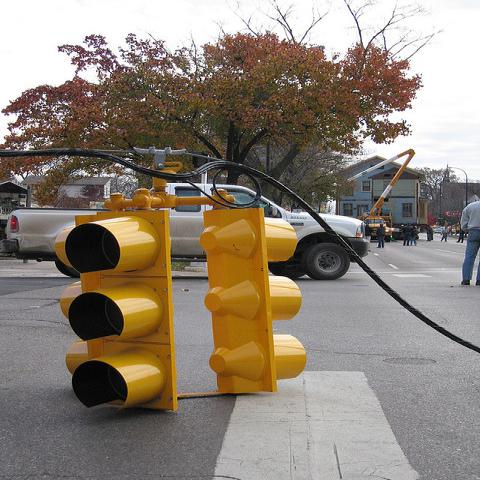truck: (1, 182, 212, 258), (258, 195, 370, 278), (361, 217, 393, 243)
